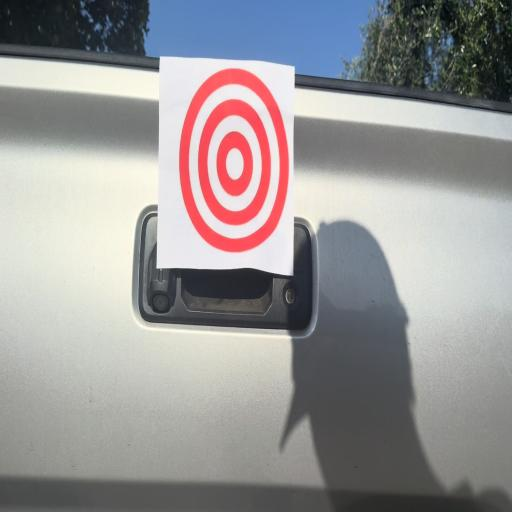bullseye: (172, 58, 295, 274)
